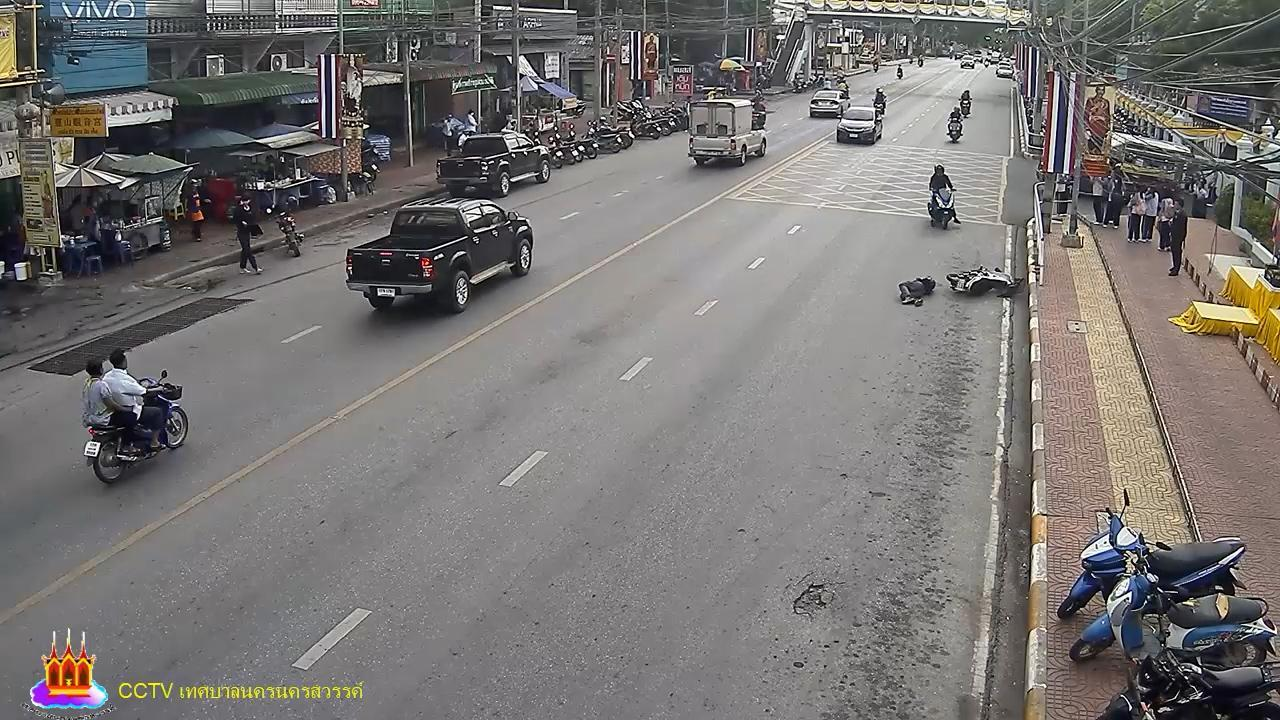accident: (897, 273, 940, 308)
